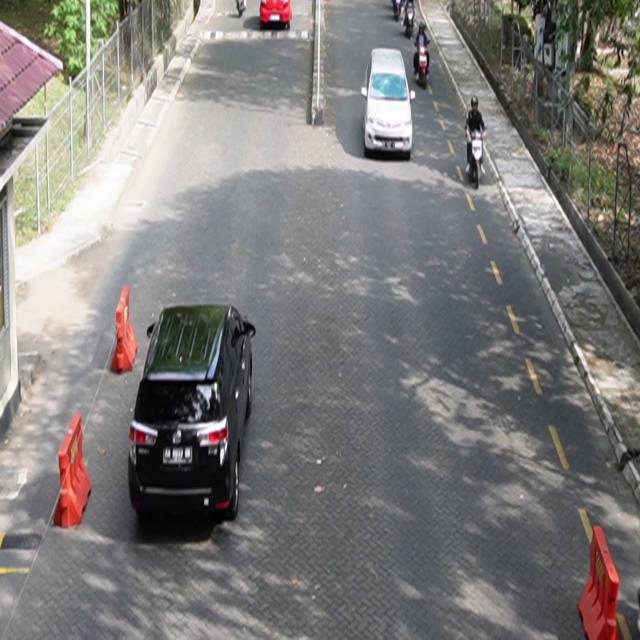car: (129, 303, 257, 523), (362, 48, 417, 160), (260, 1, 293, 31)
